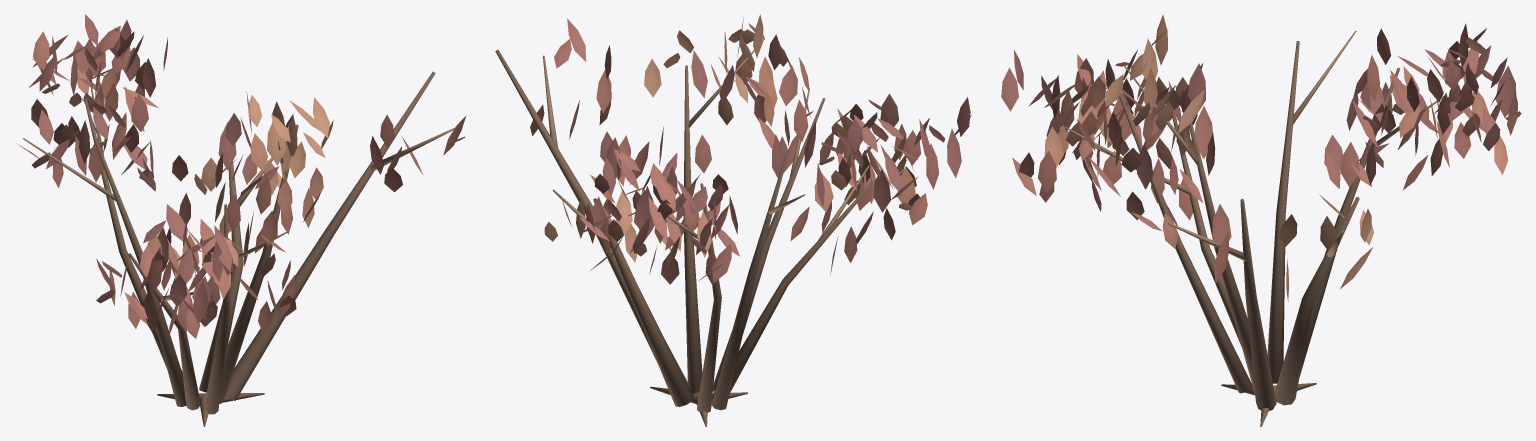
Rendered from bush_3d_06_red.glb.
3 views of the same model, side by side, from view 1: azimuth 30°, elevation 25°; view 2: azimuth 150°, elevation 25°; view 3: azimuth 270°, elevation 25° (orthographic). The views are drawn at different scales.
Parts seen in each view (by area): view 1: bush_3d_06_red_foliage, bush_3d_06_red_wood; view 2: bush_3d_06_red_foliage, bush_3d_06_red_wood; view 3: bush_3d_06_red_foliage, bush_3d_06_red_wood.
Part boxes in pixels (left/top/right/bottom): bush_3d_06_red_foliage: left=17, top=14, right=466, bottom=338; bush_3d_06_red_wood: left=23, top=71, right=454, bottom=426; bush_3d_06_red_foliage: left=530, top=14, right=971, bottom=285; bush_3d_06_red_wood: left=495, top=39, right=871, bottom=426; bush_3d_06_red_foliage: left=1001, top=14, right=1521, bottom=301; bush_3d_06_red_wood: left=1064, top=30, right=1444, bottom=426.
Size of the model in its own units: 2.42 by 2.14 by 2.65.
